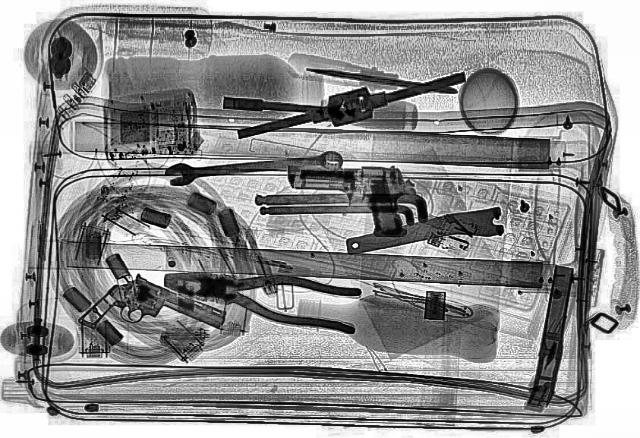Gun: (74, 269, 236, 363), (288, 163, 418, 237)
Pliers: (152, 255, 372, 335)
Wrench: (160, 147, 346, 187)
